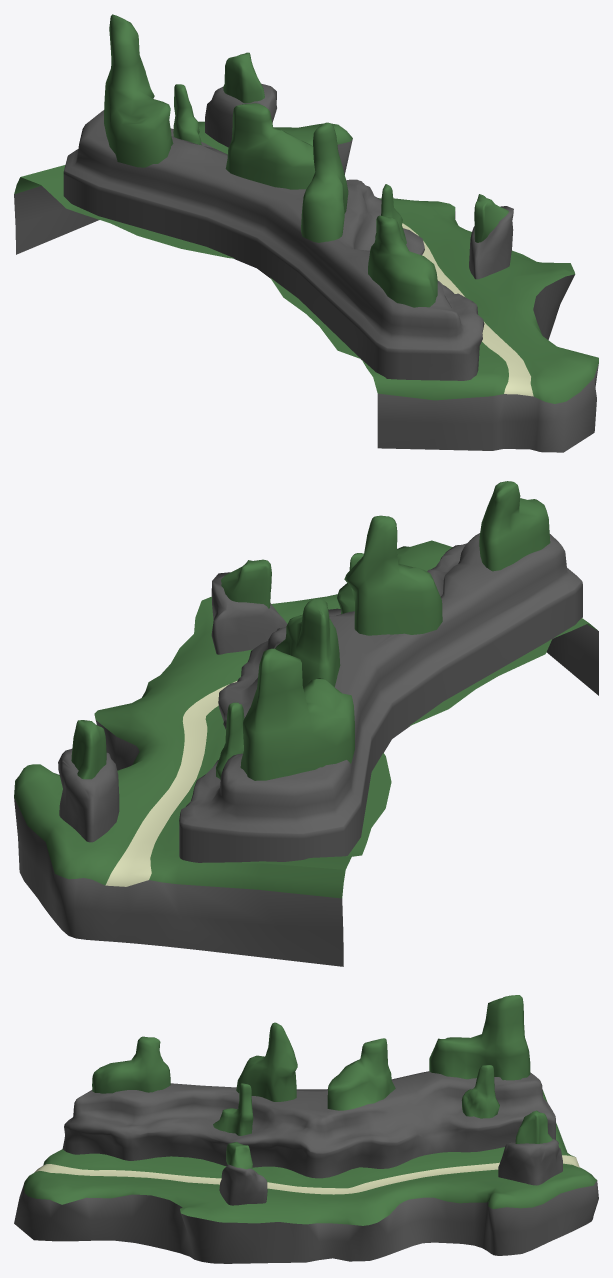
File: Cliffside02.fbx
The picture shows the model from 3 angles, top to bottom: view 1: azimuth 30°, elevation 25°; view 2: azimuth 150°, elevation 25°; view 3: azimuth 270°, elevation 25°; orthographic projection. The views are drawn at different scales.
Parts seen in each view (by area): view 1: CliffsideTop, CliffsideBase; view 2: CliffsideTop, CliffsideBase; view 3: CliffsideTop, CliffsideBase.
Boxes of the visible parts, x1,y1,x2,y2 form: CliffsideTop: [63, 14, 513, 380]; CliffsideBase: [14, 121, 598, 452]; CliffsideTop: [58, 481, 582, 862]; CliffsideBase: [14, 540, 598, 966]; CliffsideTop: [62, 995, 562, 1205]; CliffsideBase: [14, 1090, 598, 1263].
Bounding box in the file's own units: 2785 × 1831 × 5360.
